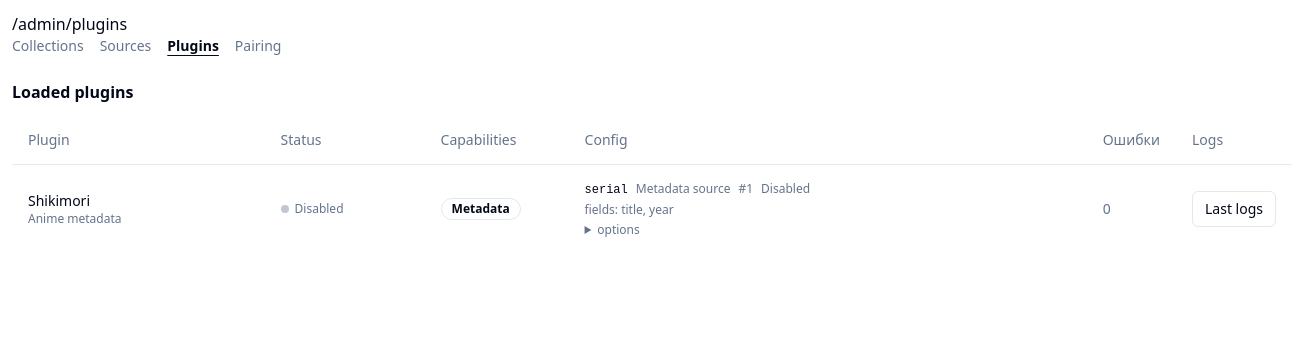
Scenario: Plugins — admin surface (plugin-admin-surfaces) › last logs render on demand, oldest first
expect the row that starts with "Shikimori" is shown: met, box left=12, top=164, right=1291, bottom=254
Click the button with aria-label "last logs shikimori".
click(1234, 209)  # box left=1192, top=191, right=1276, bottom=227
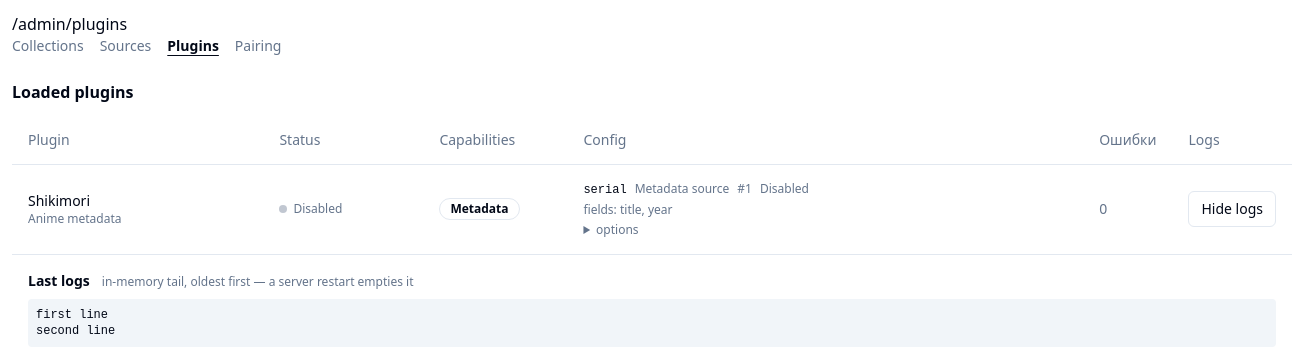
expect the text "first line second line" is shown: met, box left=28, top=298, right=1276, bottom=346
